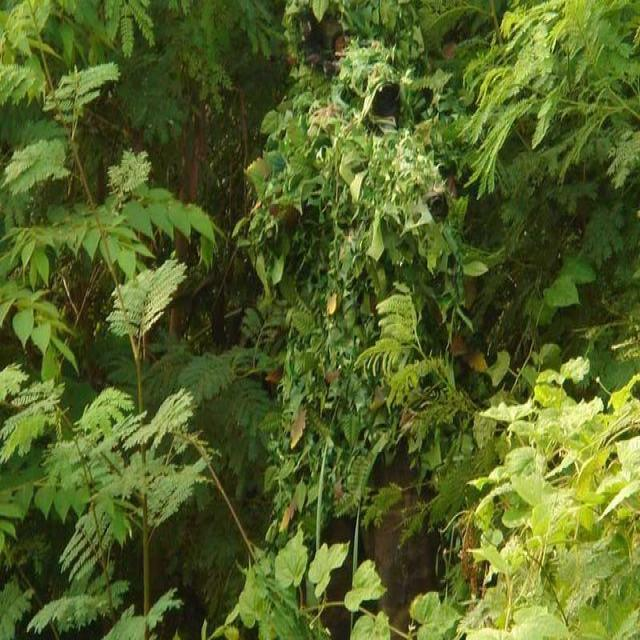Camouflage: (230, 3, 474, 640)
